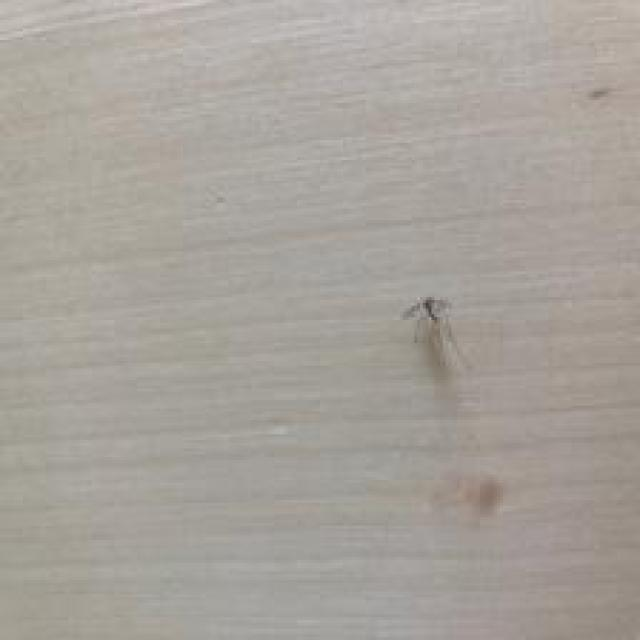Culex: (400, 294, 471, 372)
